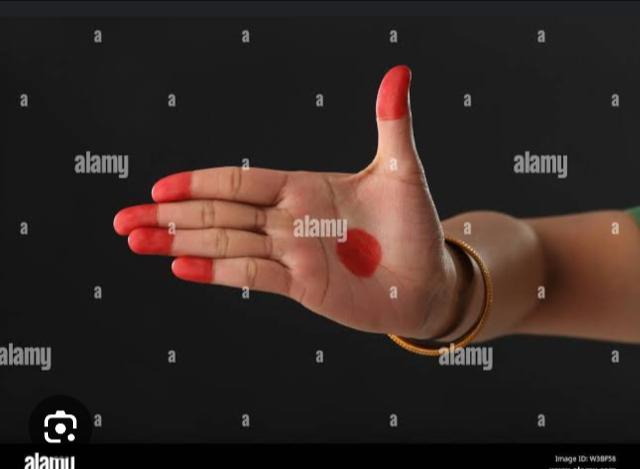ardhachandra: (70, 48, 548, 398)
